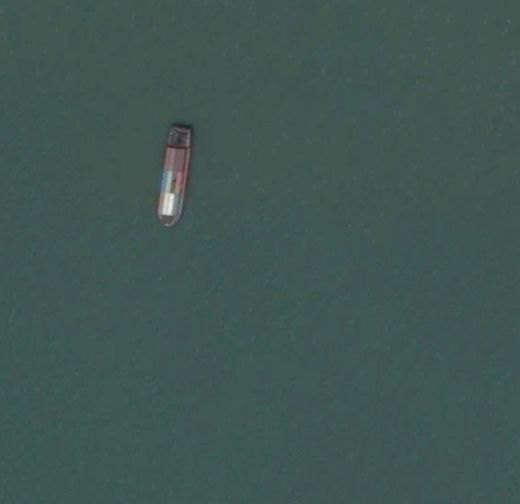boat: (155, 124, 195, 229)
